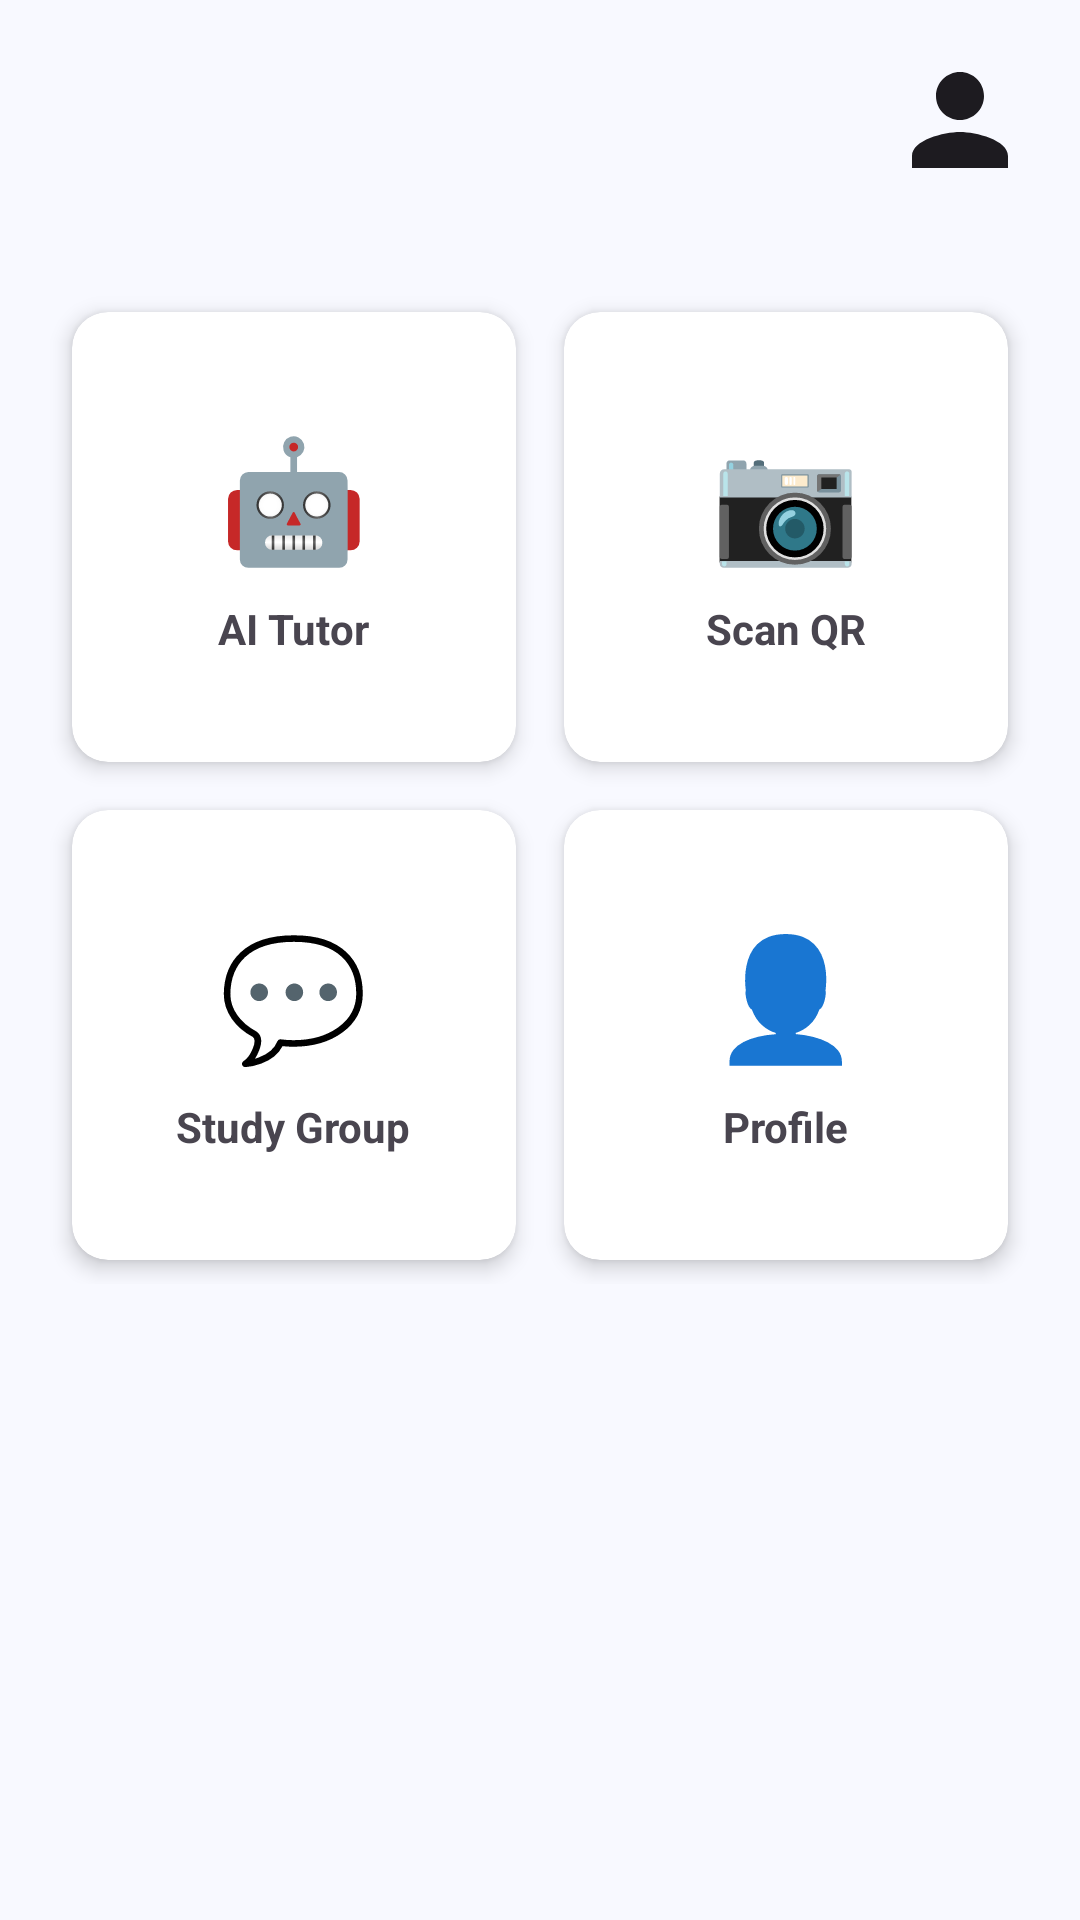

Icons on this 1080 × 1920 Android screen, each with the point to tap as (x=x, y=y):
profile: (x=960, y=120)
